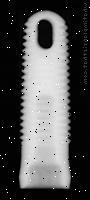Zimmer: (17, 10, 71, 190)
